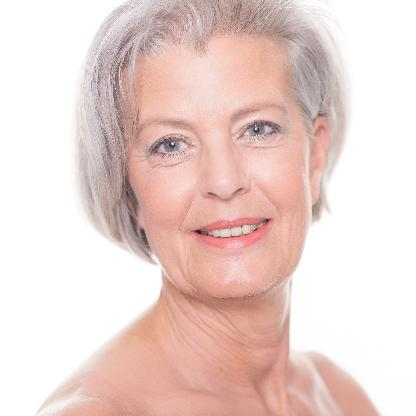Female: (121, 28, 328, 298)
